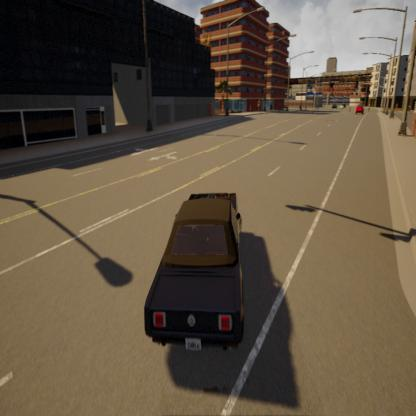Cars: (145, 188, 246, 362), (355, 101, 364, 115)
